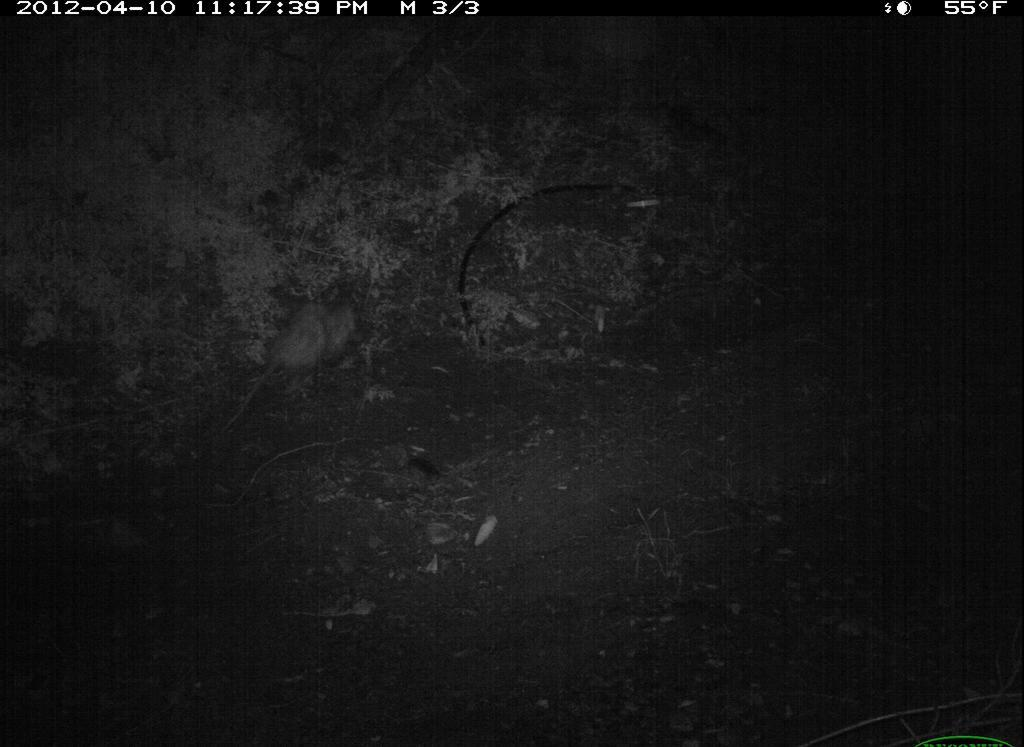opossum: (225, 295, 363, 427)
